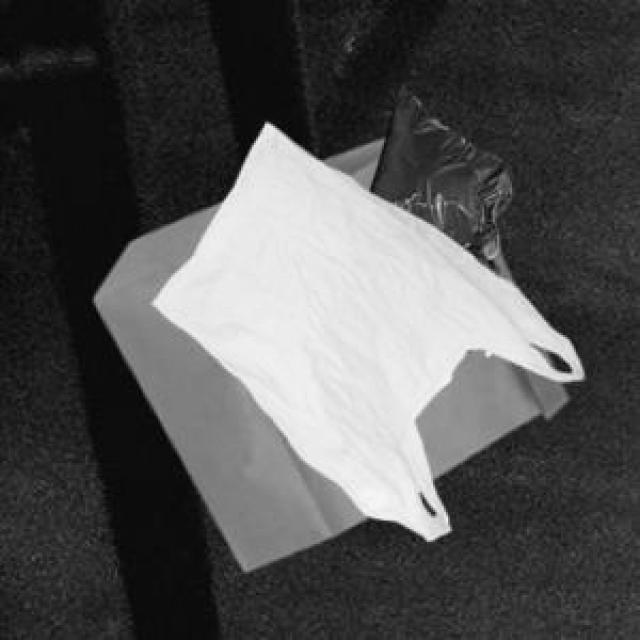miscellaneous trash: (365, 81, 508, 273)
paper: (90, 134, 563, 565)
